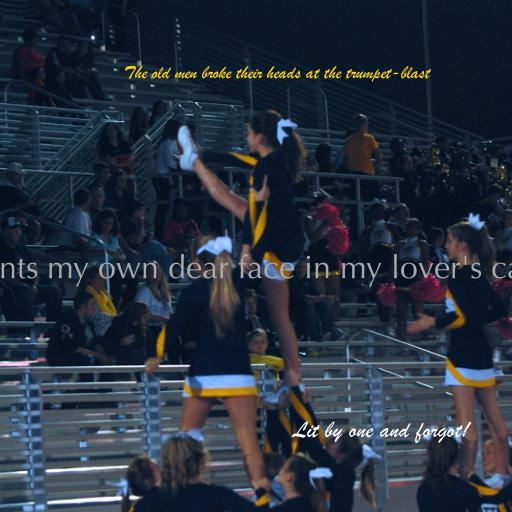Brush Script MT: (124, 65, 430, 82), (293, 421, 469, 443)
Optima: (0, 253, 512, 287)
